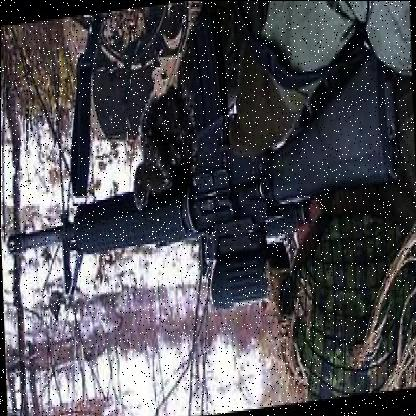rifle: (1, 2, 401, 312)
